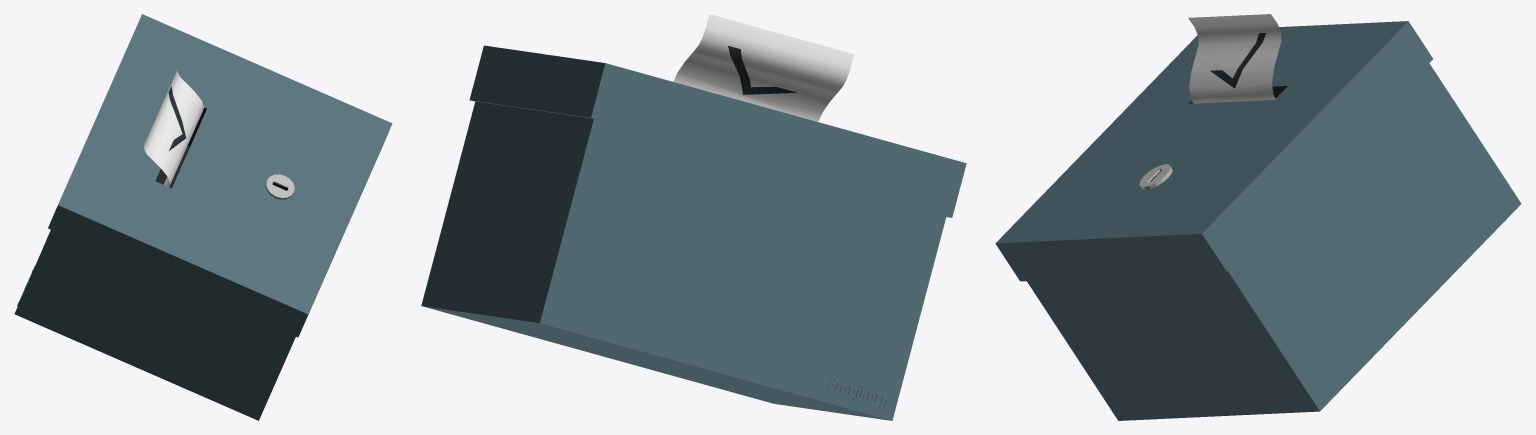
Rendered from ballot_box_with_ballot.fbx.
The picture shows the model from 3 angles, left to right: view 1: azimuth 30°, elevation 25°; view 2: azimuth 150°, elevation 25°; view 3: azimuth 270°, elevation 25°; orthographic projection. The views are drawn at different scales.
Parts seen in each view (by area): view 1: Cube.975; view 2: Cube.975; view 3: Cube.975.
Boxes of the visible parts, x1,y1,x2,y2 form: Cube.975: (14,14,392,420); Cube.975: (421,14,966,420); Cube.975: (995,14,1521,420).
Size of the model in its own units: 222 by 204 by 243.
Materials: 1 (1 with a texture image).
